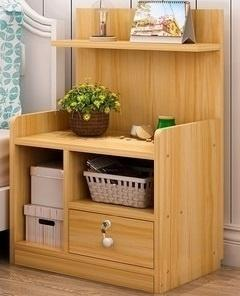cabinet_door: (68, 212, 154, 259)
handle: (101, 234, 114, 250)
